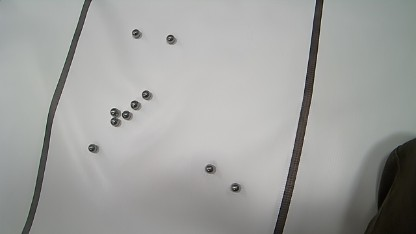ironball: (109, 107, 120, 117), (130, 100, 141, 110), (88, 143, 98, 153), (131, 29, 141, 39), (142, 90, 152, 100), (166, 34, 176, 44), (122, 110, 131, 120), (110, 117, 120, 126), (205, 164, 215, 173), (231, 183, 240, 192)
